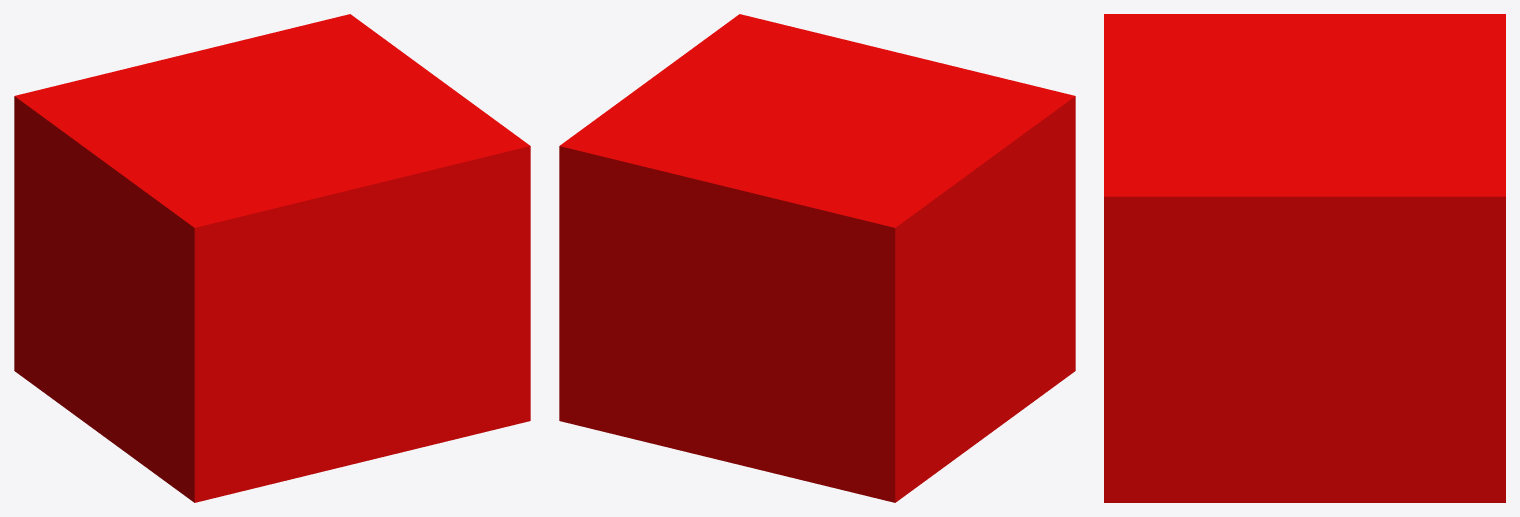
The model's file is thoracic12_col.dae.
3 views of the same model, side by side, from view 1: azimuth 30°, elevation 25°; view 2: azimuth 150°, elevation 25°; view 3: azimuth 270°, elevation 25° (orthographic). The views are drawn at different scales.
Visible parts, largest first — view 1: node0; view 2: node0; view 3: node0.
Part boxes in pixels (x1,y1,x2,y2): node0: [14, 14, 530, 502]; node0: [559, 14, 1075, 502]; node0: [1104, 14, 1505, 502].
Size of the model in its own units: 0.0693 by 0.0542 by 0.0644.
